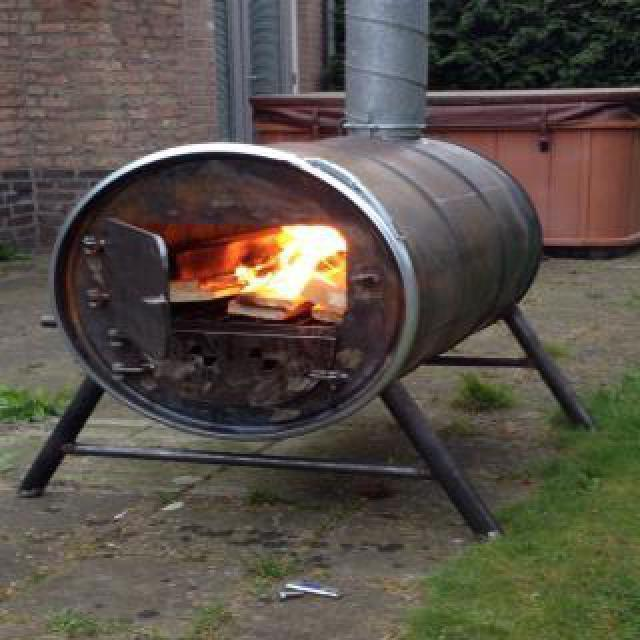Fire: (216, 214, 372, 316)
